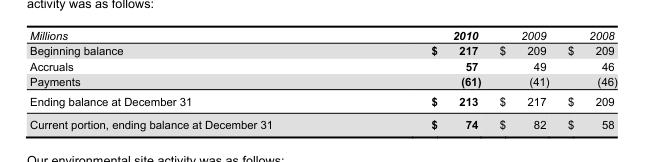table: (29, 29, 616, 130)
table column: (29, 29, 351, 130), (351, 29, 489, 130), (489, 29, 557, 130), (557, 29, 616, 130)
table column header: (29, 29, 616, 42)
table row: (29, 90, 616, 112), (29, 112, 616, 130), (29, 73, 616, 90), (29, 42, 616, 58), (29, 58, 616, 73), (29, 29, 616, 42)
